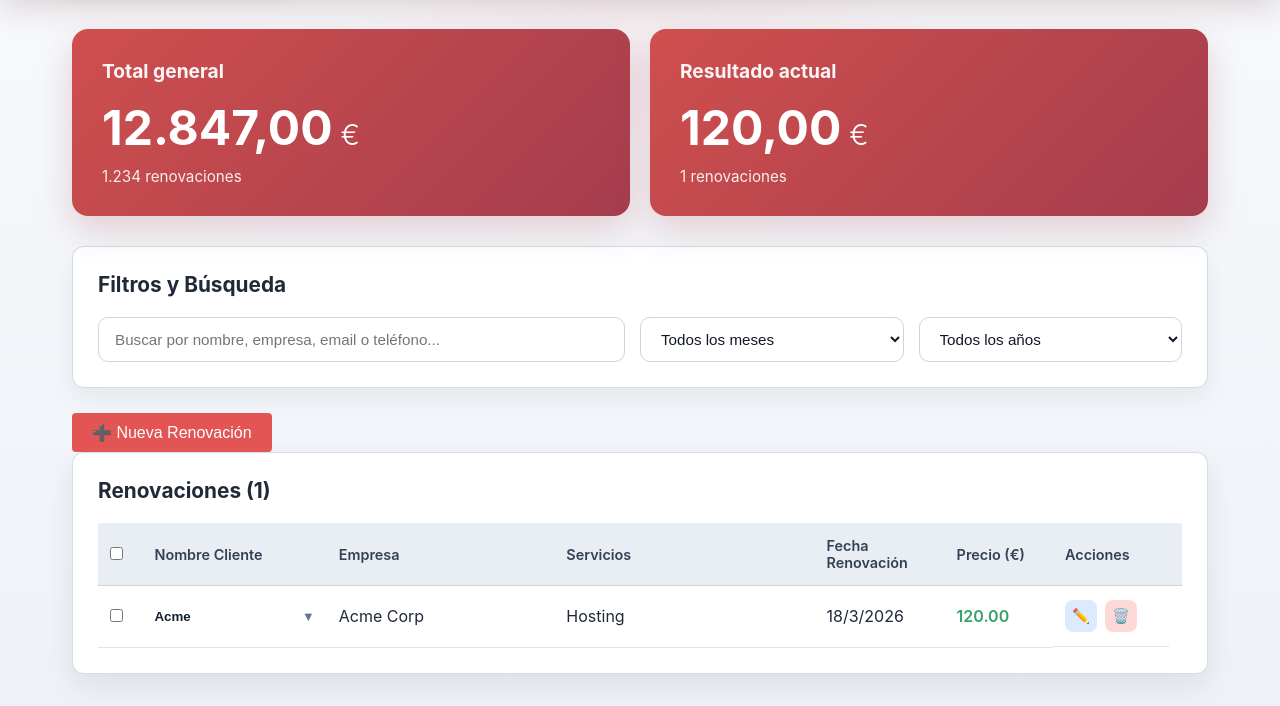
Test: RenovacionesDashboardPage › muestra la información ampliada al desplegar un cliente
(page scrolled)
Click the button with aria-label "Ver detalle de Acme" at (235, 616), box [154,609,315,624]
(page scrolled)
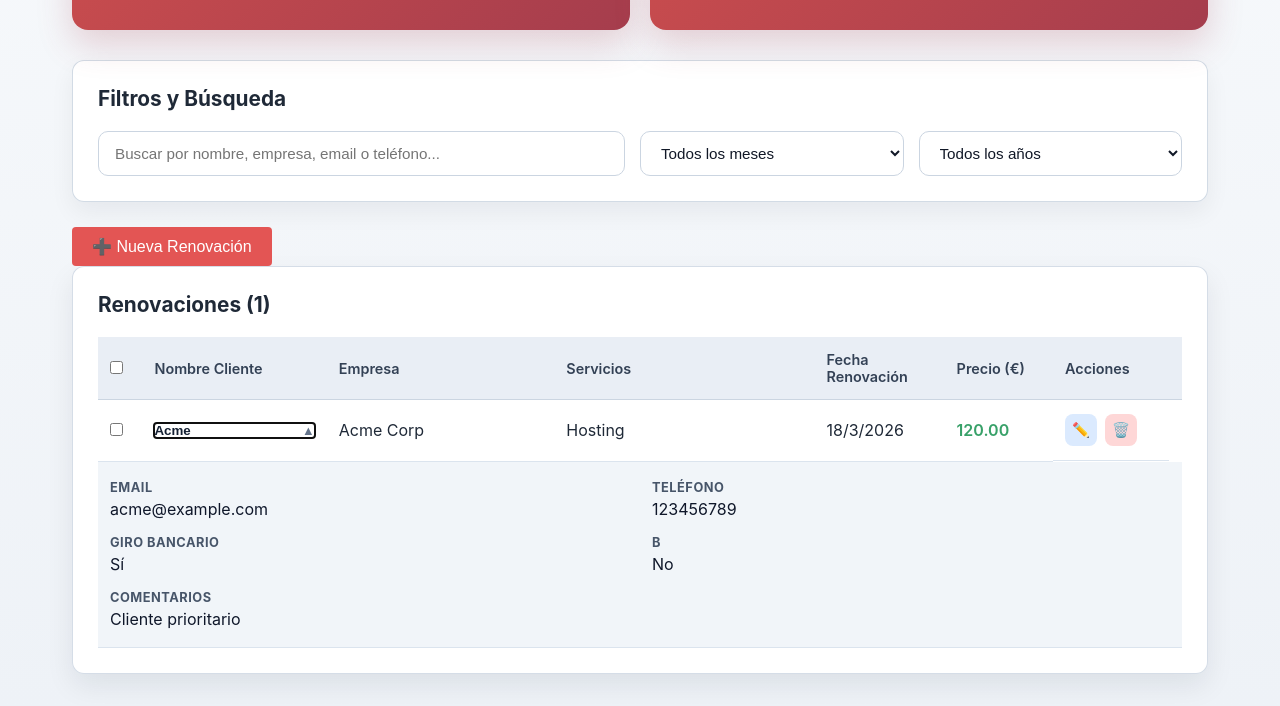
Expected: the text "acme@example.com" is shown, [110,499,268,519]
Expected: the text "123456789" is shown, [652,499,736,519]
Expected: the text "Cliente prioritario" is shown, [110,609,241,629]
